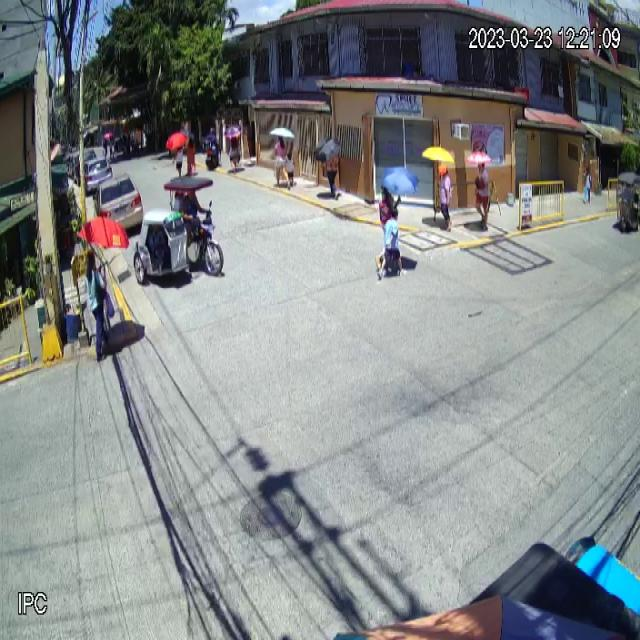Tricycle: (131, 172, 226, 290)
